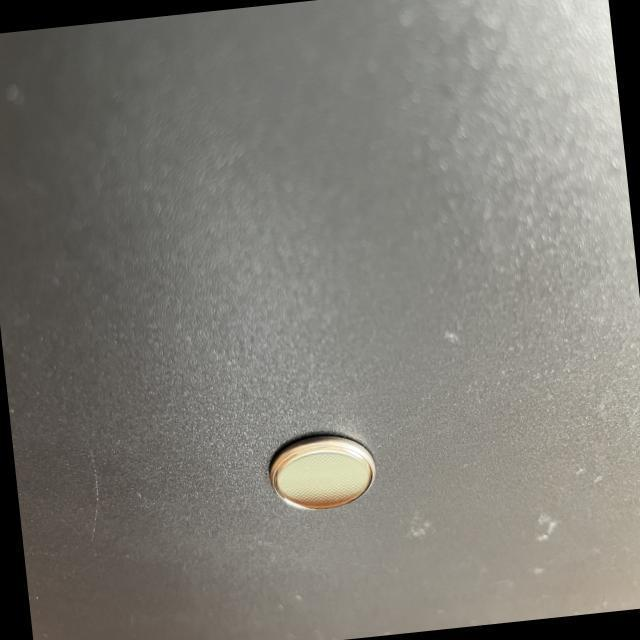COIN: (260, 424, 381, 518)
